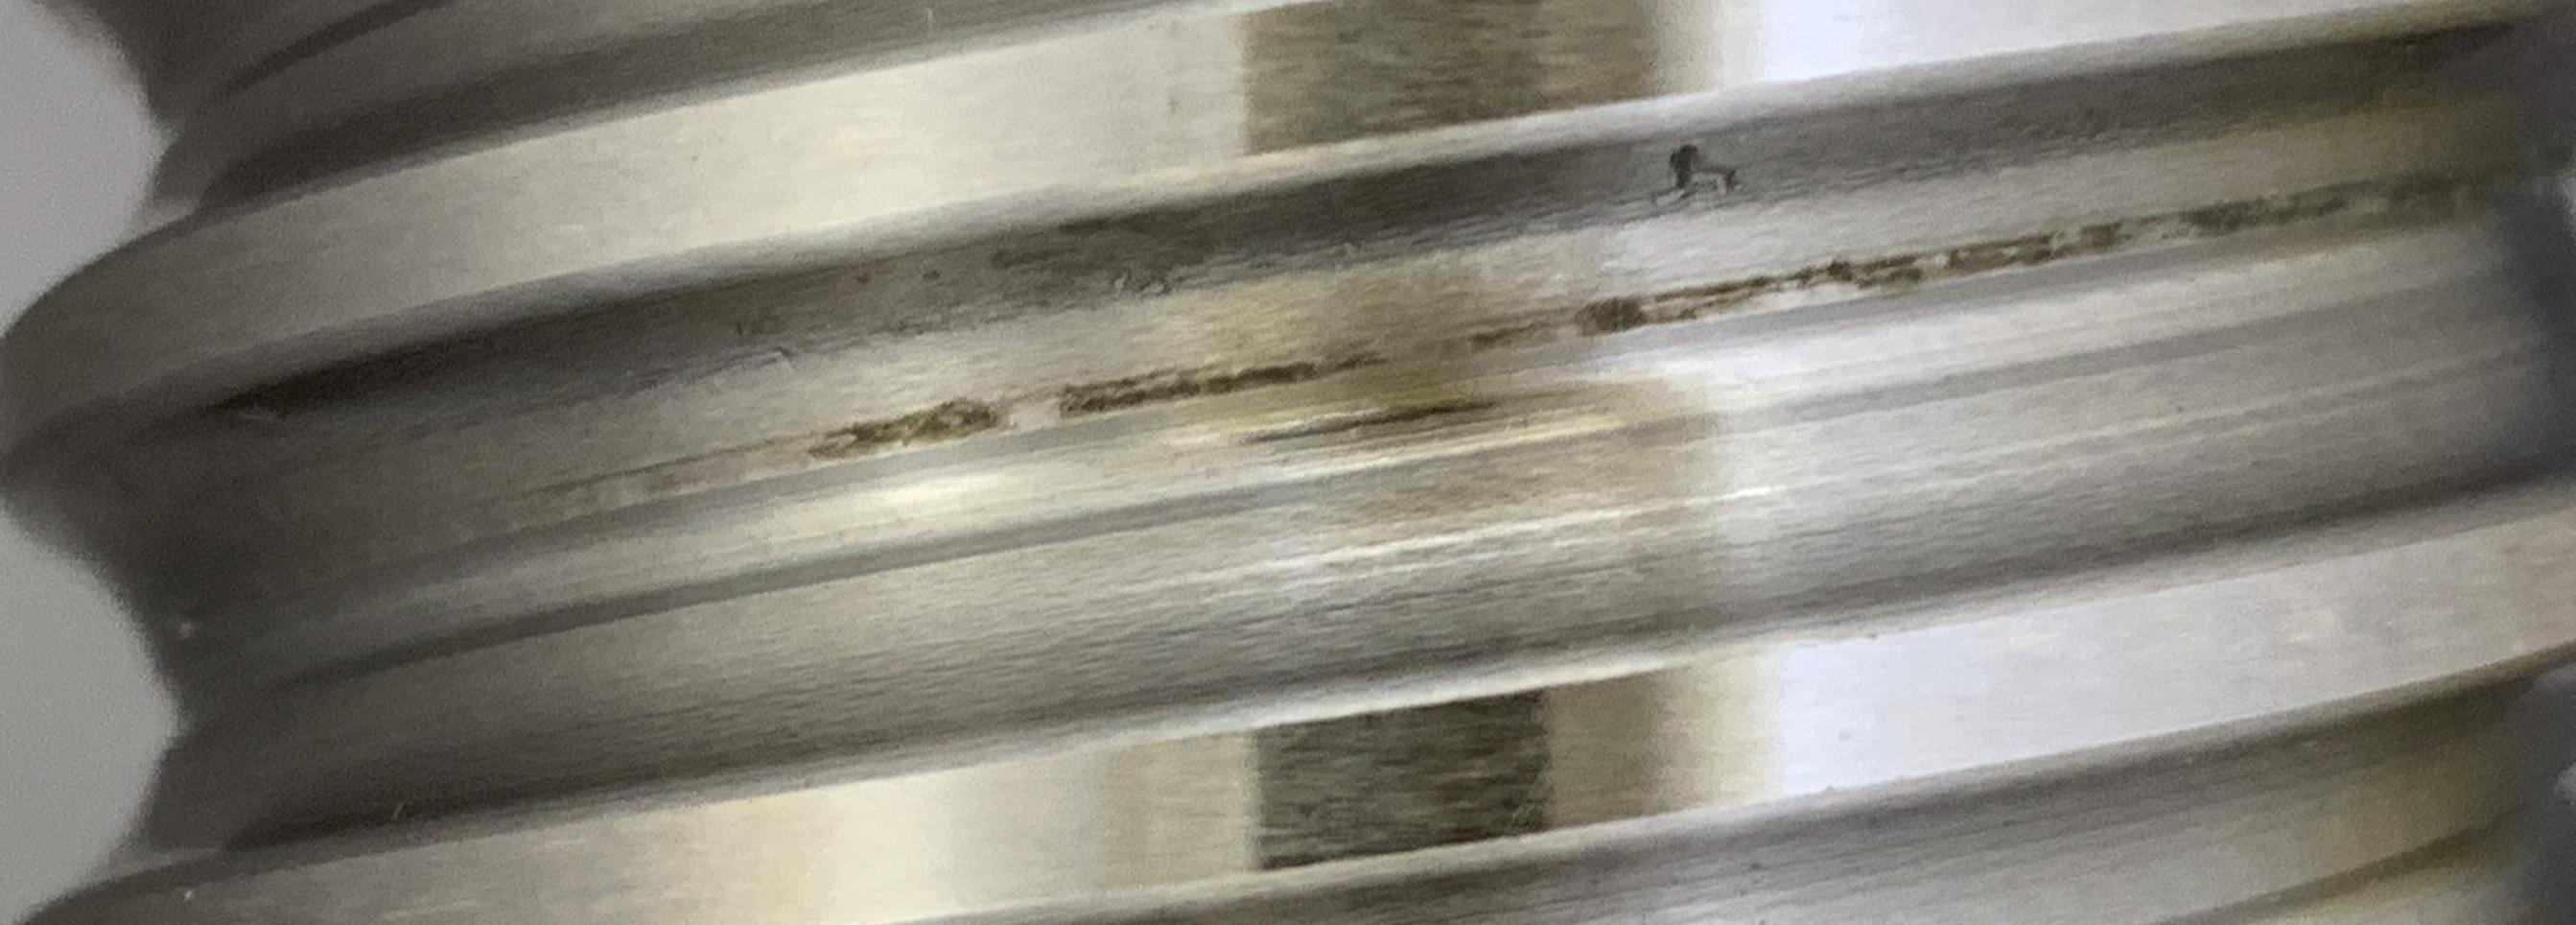pitting: (1651, 145, 1733, 207)
